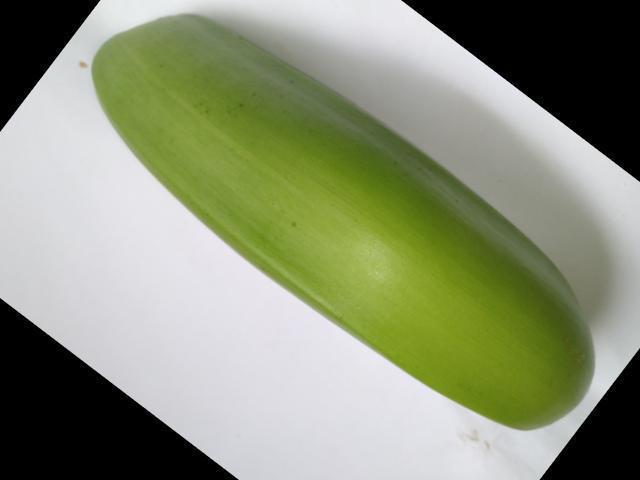freshunripe: (82, 6, 602, 441)
